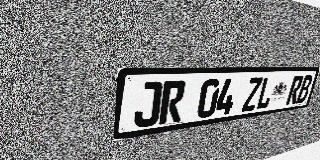0: (196, 79, 221, 119)
4: (214, 78, 238, 116)
B: (296, 75, 314, 104)
J: (133, 81, 163, 129)
L: (255, 77, 276, 110)
R: (158, 80, 187, 125), (286, 76, 304, 105)
Z: (241, 77, 263, 112)
